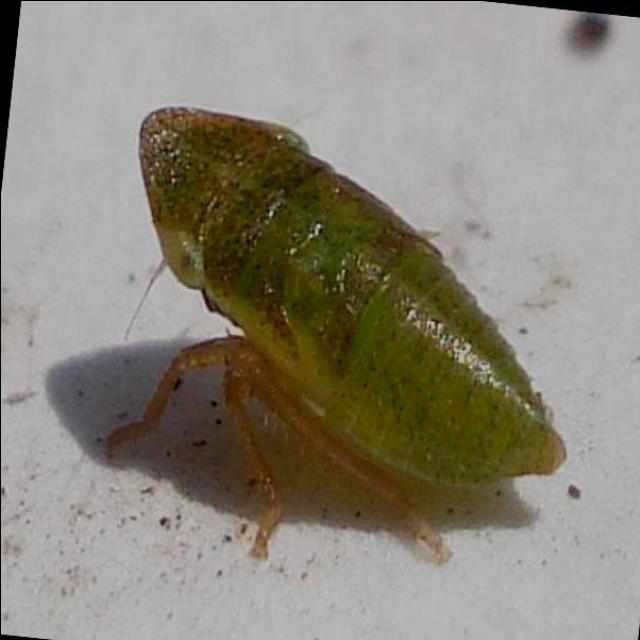green leaf hopper: (108, 106, 565, 557)
